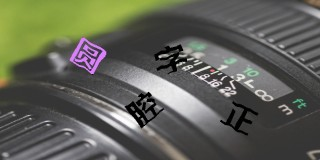圆: (68, 36, 108, 75)
字: (153, 42, 185, 76)
正: (220, 100, 259, 136)
腔: (123, 91, 165, 128)
